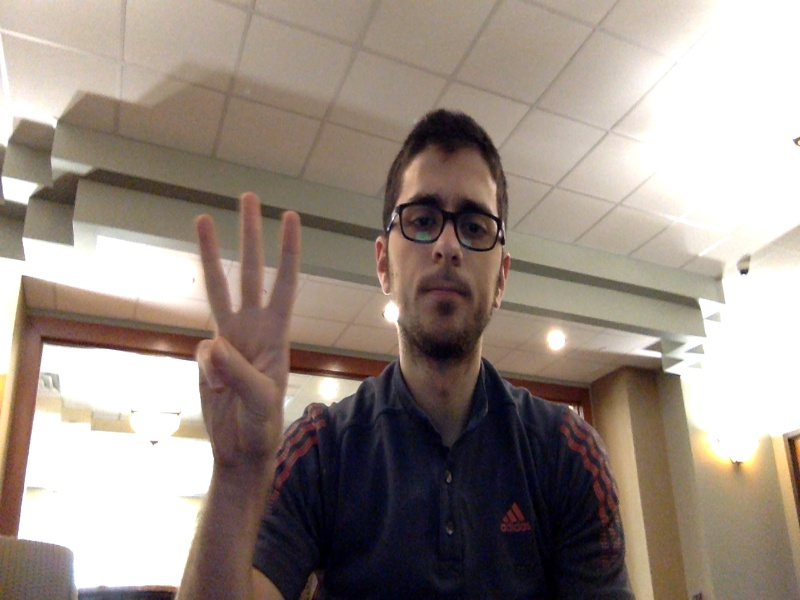3-hand: (195, 191, 300, 463)
